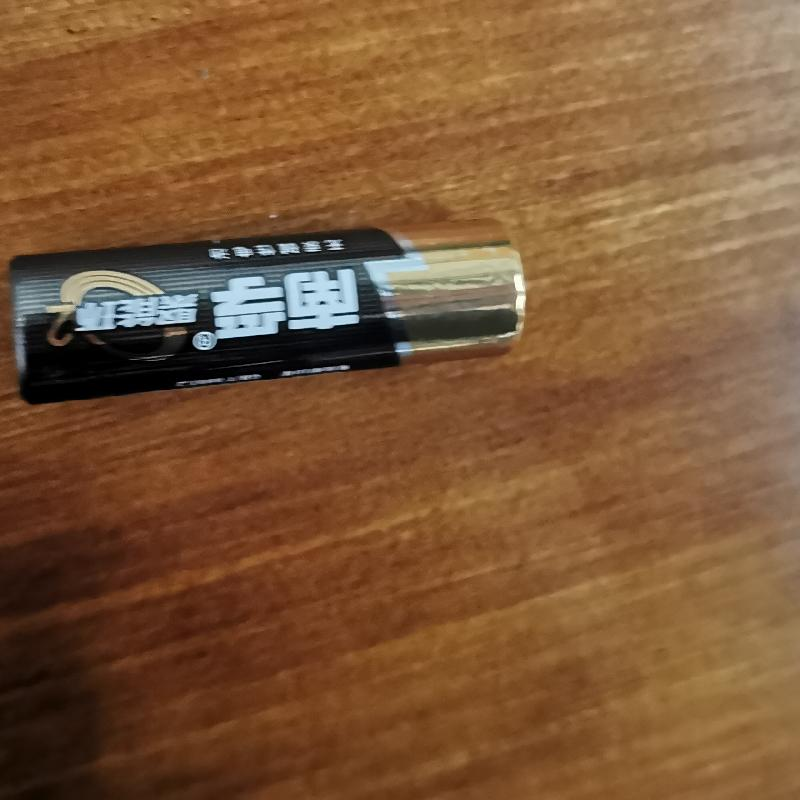battery: (8, 215, 549, 409)
